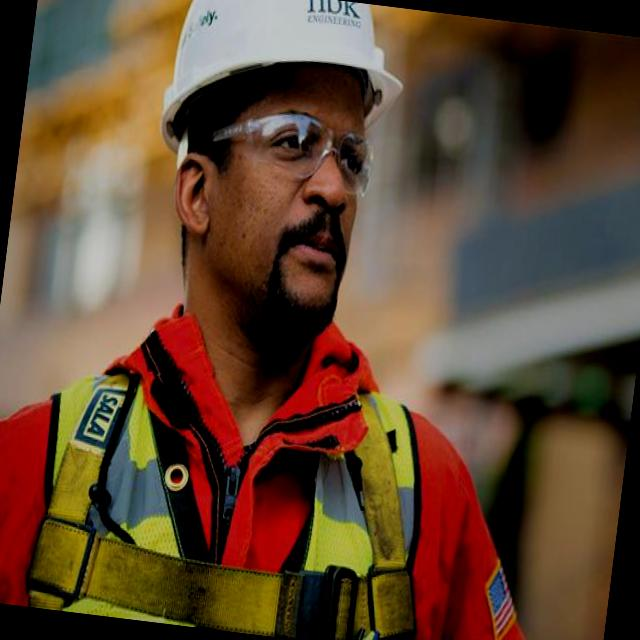goggles: (208, 108, 386, 196)
helmet: (153, 0, 413, 183)
